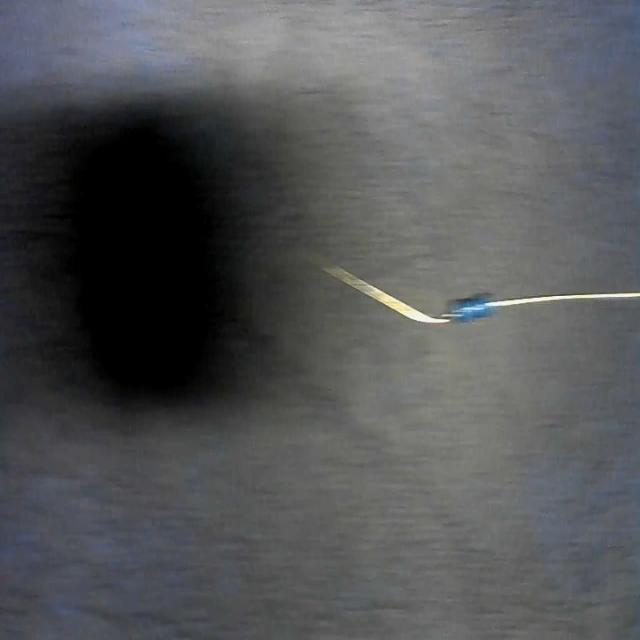resistor: (335, 273, 640, 326)
